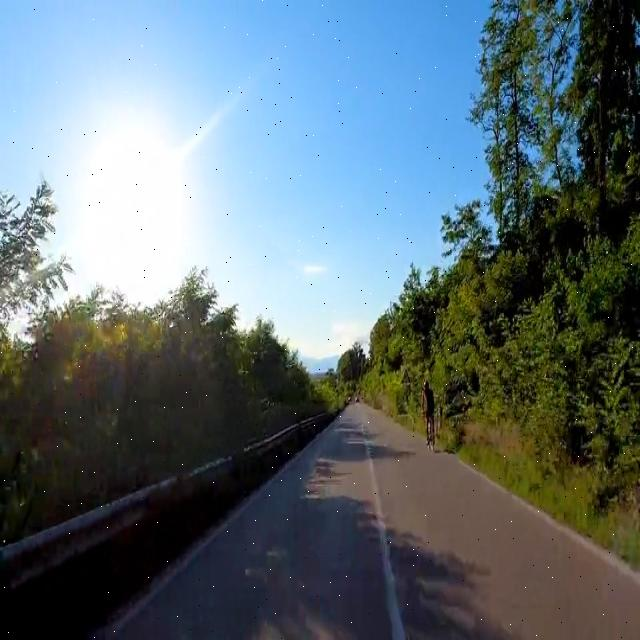lane: (361, 423, 405, 639)
road: (103, 404, 639, 638)
